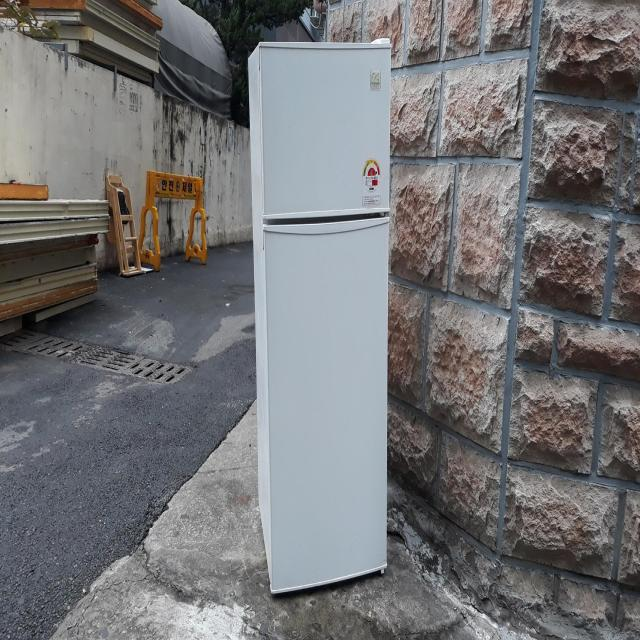refrigerator: (247, 38, 394, 610)
